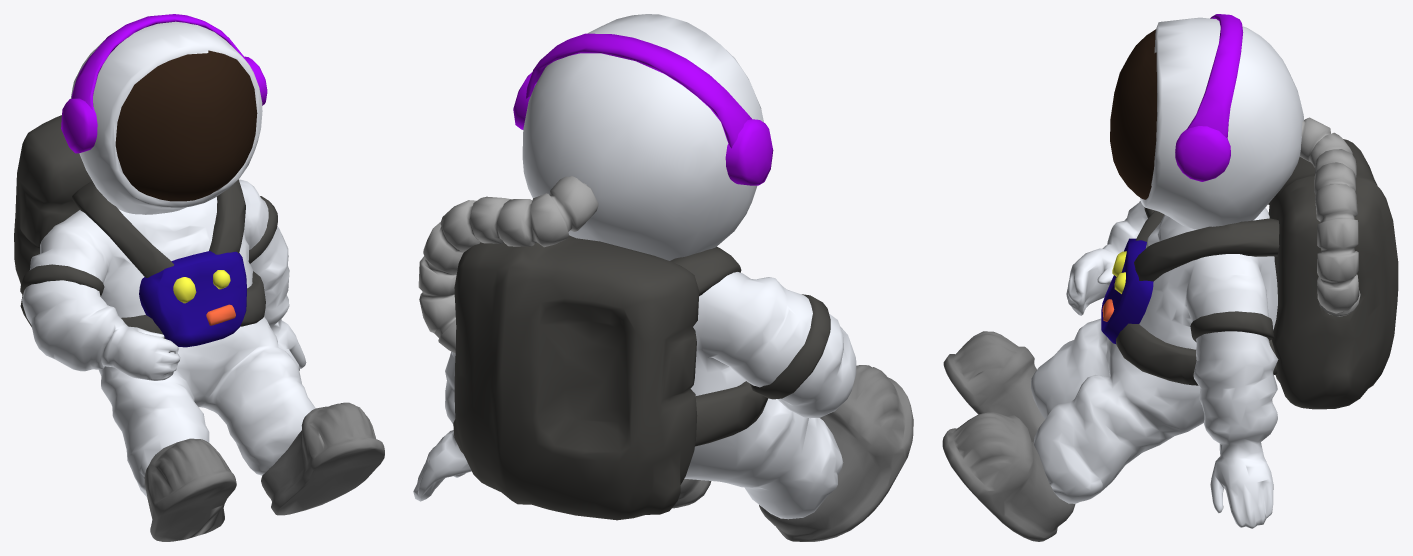
File: astronaut-standing.glb
The picture shows the model from 3 angles, left to right: view 1: azimuth 30°, elevation 25°; view 2: azimuth 150°, elevation 25°; view 3: azimuth 270°, elevation 25°; orthographic projection. The views are drawn at different scales.
Visible parts, largest first — view 1: uploads_files_2961386_astronaut_fix_high.001, uploads_files_2961386_astronaut_fix_high.020, uploads_files_2961386_astronaut_fix_high.018, uploads_files_2961386_astronaut_fix_high.004, uploads_files_2961386_astronaut_fix_high.010, uploads_files_2961386_astronaut_fix_high.009, uploads_files_2961386_astronaut_fix_high.002, uploads_files_2961386_astronaut_fix_high.008; view 2: uploads_files_2961386_astronaut_fix_high.001, uploads_files_2961386_astronaut_fix_high.010, uploads_files_2961386_astronaut_fix_high.018, uploads_files_2961386_astronaut_fix_high.011, uploads_files_2961386_astronaut_fix_high.002, uploads_files_2961386_astronaut_fix_high.004; view 3: uploads_files_2961386_astronaut_fix_high.001, uploads_files_2961386_astronaut_fix_high.010, uploads_files_2961386_astronaut_fix_high.018, uploads_files_2961386_astronaut_fix_high.004, uploads_files_2961386_astronaut_fix_high.011, uploads_files_2961386_astronaut_fix_high.020, uploads_files_2961386_astronaut_fix_high.002, uploads_files_2961386_astronaut_fix_high.009.
Boxes of the visible parts, left/top/right/bottom form: uploads_files_2961386_astronaut_fix_high.001: left=22, top=21, right=315, bottom=497; uploads_files_2961386_astronaut_fix_high.020: left=115, top=50, right=257, bottom=201; uploads_files_2961386_astronaut_fix_high.018: left=144, top=402, right=384, bottom=541; uploads_files_2961386_astronaut_fix_high.004: left=20, top=179, right=277, bottom=338; uploads_files_2961386_astronaut_fix_high.010: left=14, top=115, right=92, bottom=327; uploads_files_2961386_astronaut_fix_high.009: left=139, top=251, right=246, bottom=347; uploads_files_2961386_astronaut_fix_high.002: left=61, top=14, right=267, bottom=153; uploads_files_2961386_astronaut_fix_high.008: left=173, top=270, right=230, bottom=303; uploads_files_2961386_astronaut_fix_high.001: left=413, top=14, right=856, bottom=519; uploads_files_2961386_astronaut_fix_high.010: left=453, top=235, right=699, bottom=520; uploads_files_2961386_astronaut_fix_high.018: left=672, top=365, right=913, bottom=541; uploads_files_2961386_astronaut_fix_high.011: left=418, top=175, right=598, bottom=353; uploads_files_2961386_astronaut_fix_high.002: left=513, top=33, right=773, bottom=185; uploads_files_2961386_astronaut_fix_high.004: left=670, top=246, right=830, bottom=446; uploads_files_2961386_astronaut_fix_high.001: left=1031, top=17, right=1303, bottom=528; uploads_files_2961386_astronaut_fix_high.010: left=1268, top=139, right=1398, bottom=409; uploads_files_2961386_astronaut_fix_high.018: left=942, top=331, right=1075, bottom=541; uploads_files_2961386_astronaut_fix_high.004: left=1116, top=203, right=1279, bottom=385; uploads_files_2961386_astronaut_fix_high.011: left=1299, top=117, right=1360, bottom=316; uploads_files_2961386_astronaut_fix_high.020: left=1110, top=29, right=1156, bottom=199; uploads_files_2961386_astronaut_fix_high.002: left=1175, top=14, right=1243, bottom=181; uploads_files_2961386_astronaut_fix_high.009: left=1101, top=238, right=1153, bottom=343.
Bounding box in the file's own units: 2.48 × 3.46 × 2.98.
